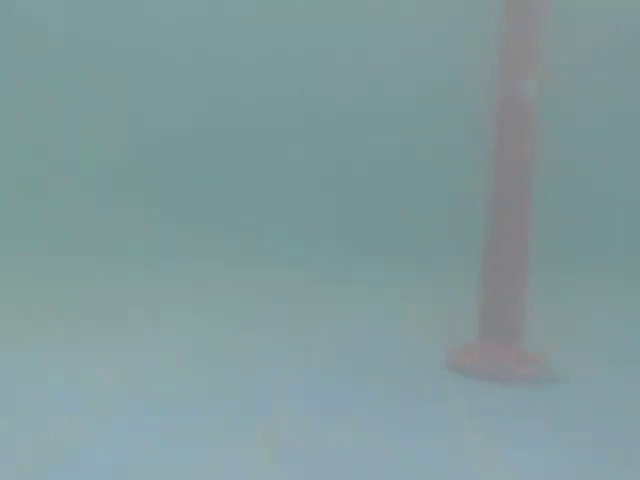flare: (445, 0, 564, 378)
